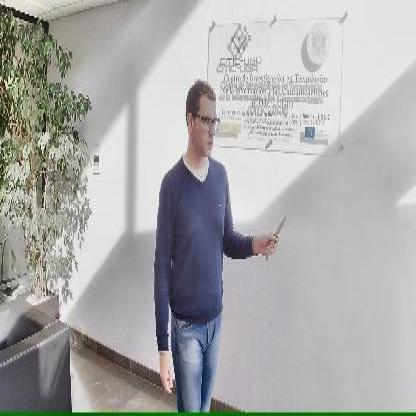knife: (263, 208, 287, 261)
